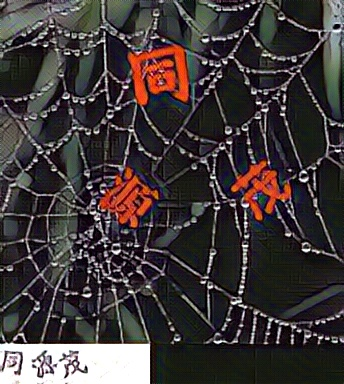C3AF: (228, 156, 291, 222)
CDAC: (128, 42, 191, 108)
D4B4: (97, 166, 160, 232)
